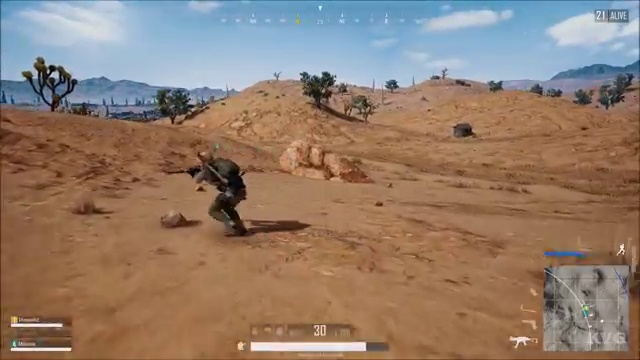Player: (174, 145, 267, 232)
